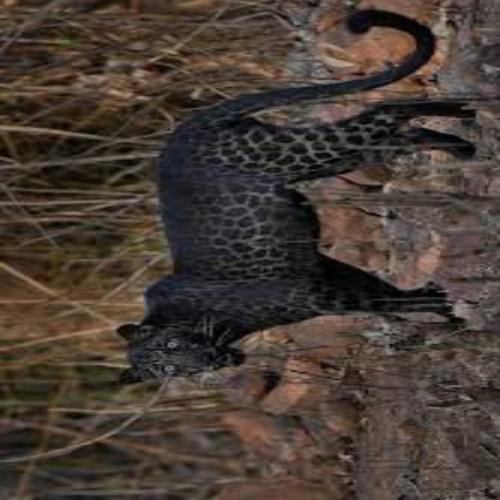panther-endangered: (134, 59, 464, 377)
